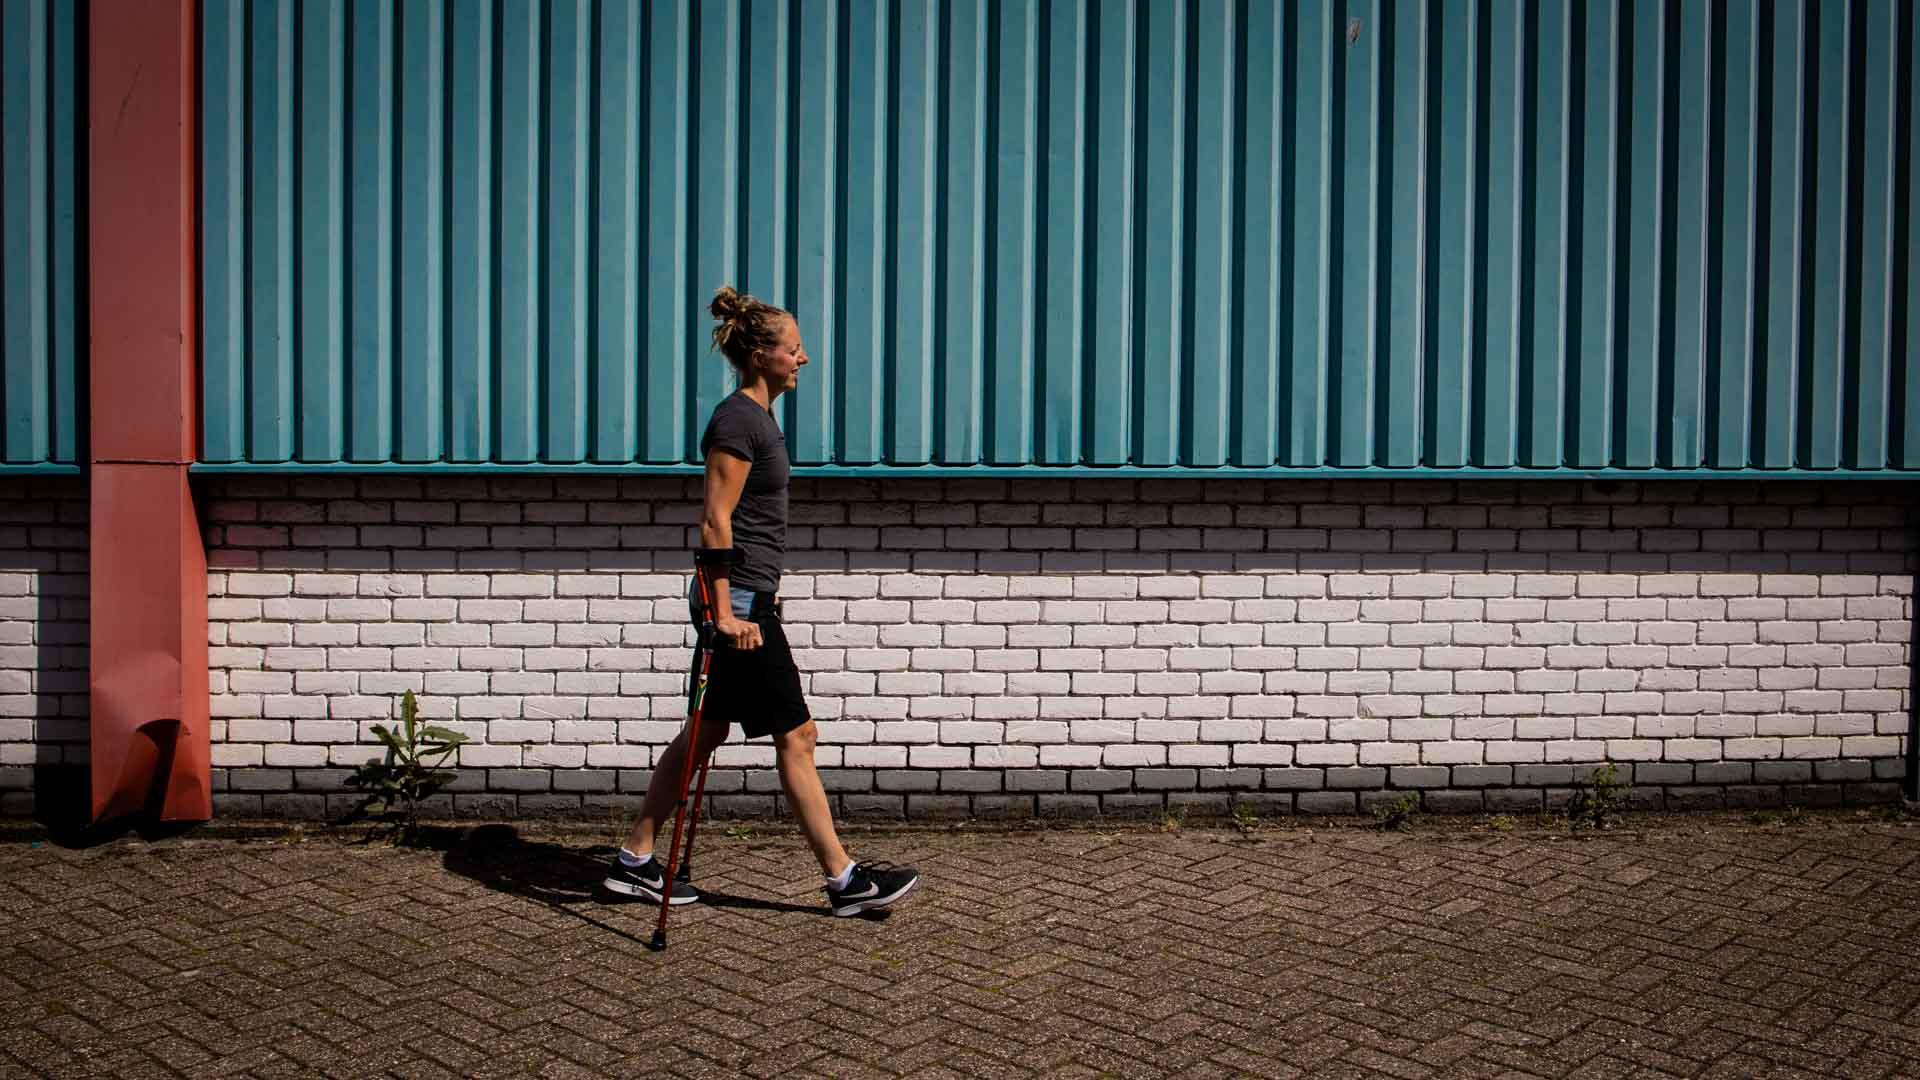crutches: (603, 284, 920, 952)
